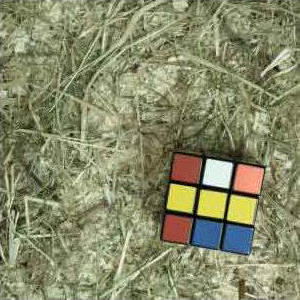egg: (159, 152, 268, 257)
